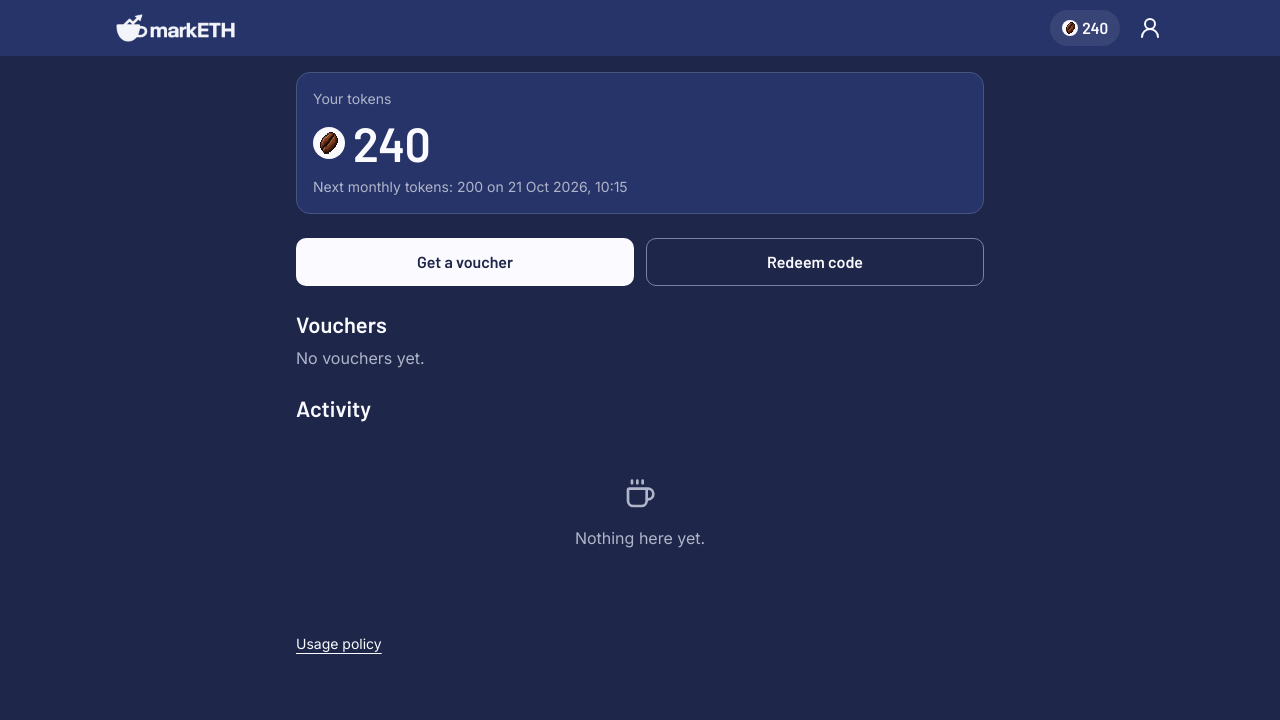
the product list › says so when there is no product
What coordinates should you click on to do the following:
click the button "Get a voucher"
I would click on:
 (465, 262)
Its box is left=296, top=238, right=634, bottom=286.
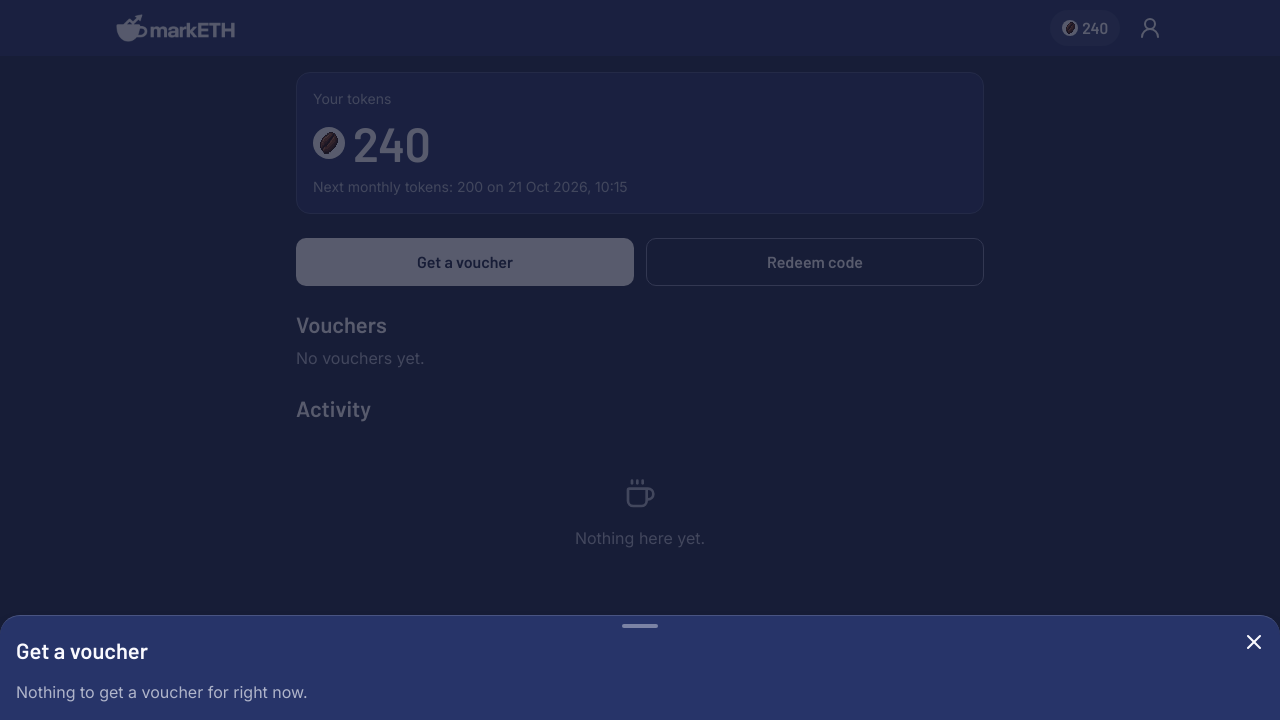
Expected: the text "Nothing to get a voucher for right now." is shown, left=16, top=682, right=308, bottom=702
